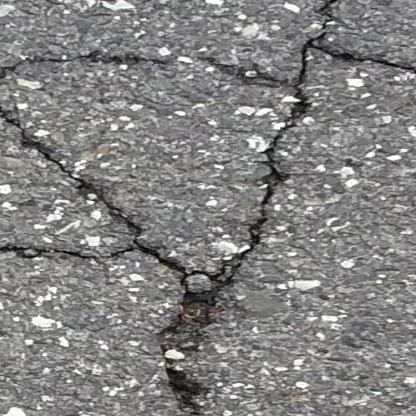Cracks: (195, 0, 416, 273), (0, 39, 200, 219), (150, 268, 254, 416), (0, 217, 197, 288)
